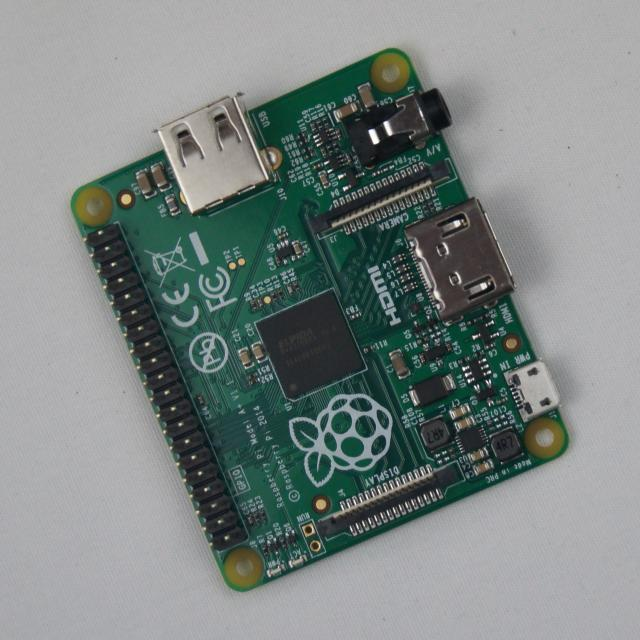Raspberry-Pi-1-A-: (72, 50, 568, 591)
